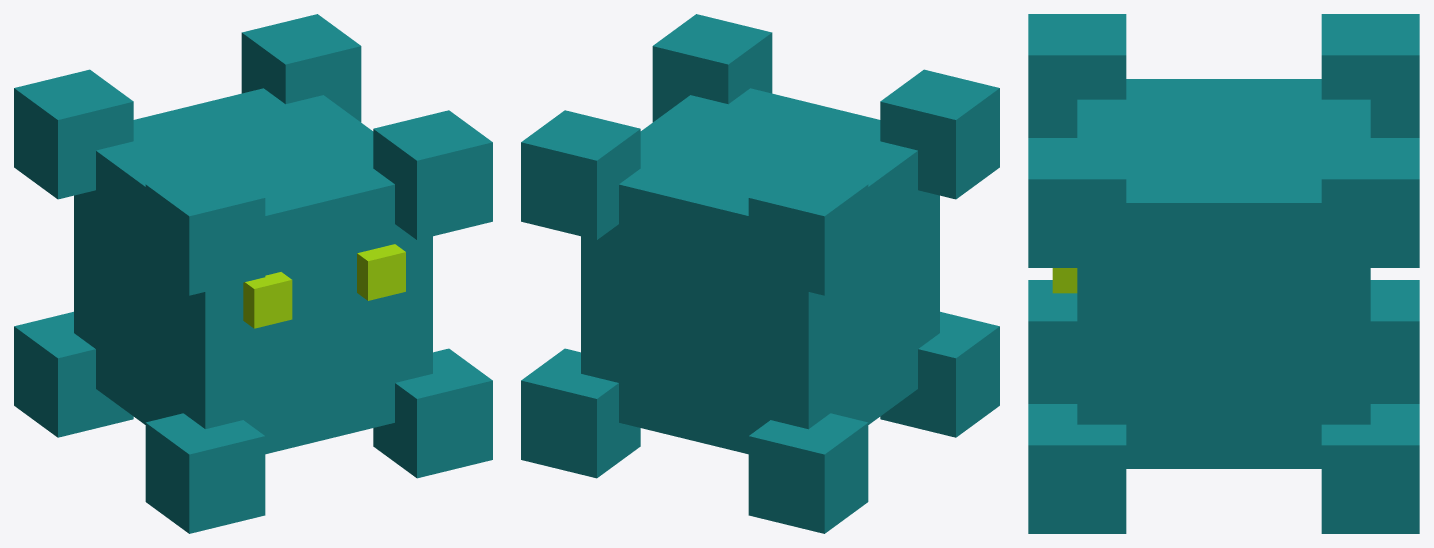
File: PropagateVirus.fbx
3 views of the same model, side by side, from view 1: azimuth 30°, elevation 25°; view 2: azimuth 150°, elevation 25°; view 3: azimuth 270°, elevation 25° (orthographic). The views are drawn at different scales.
Visible parts, largest first — view 1: Cube.001, Cube.011, Cube.010; view 2: Cube.001; view 3: Cube.001, Cube.010.
Part boxes in pixels (bbox=[...]): Cube.001: bbox=[14, 14, 492, 533]; Cube.011: bbox=[243, 272, 292, 328]; Cube.010: bbox=[357, 244, 405, 300]; Cube.001: bbox=[521, 14, 999, 533]; Cube.001: bbox=[1028, 14, 1419, 533]; Cube.010: bbox=[1052, 268, 1077, 293].
Size of the model in its own units: 160 by 160 by 160.
